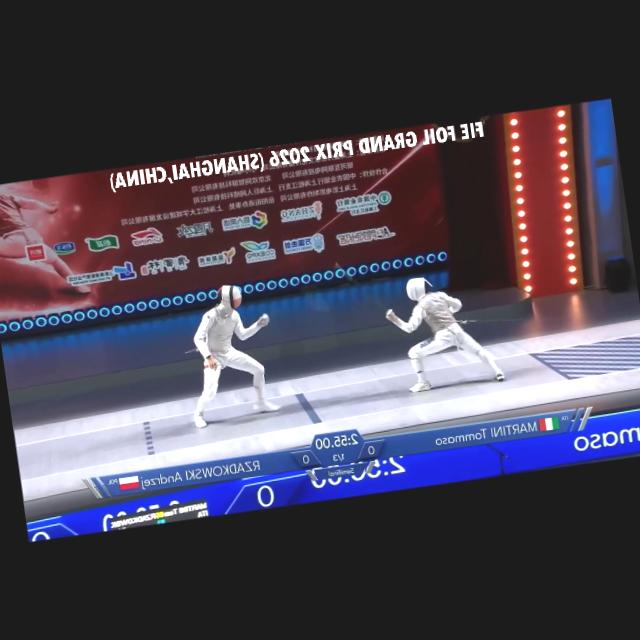blade: (332, 254, 395, 328)
